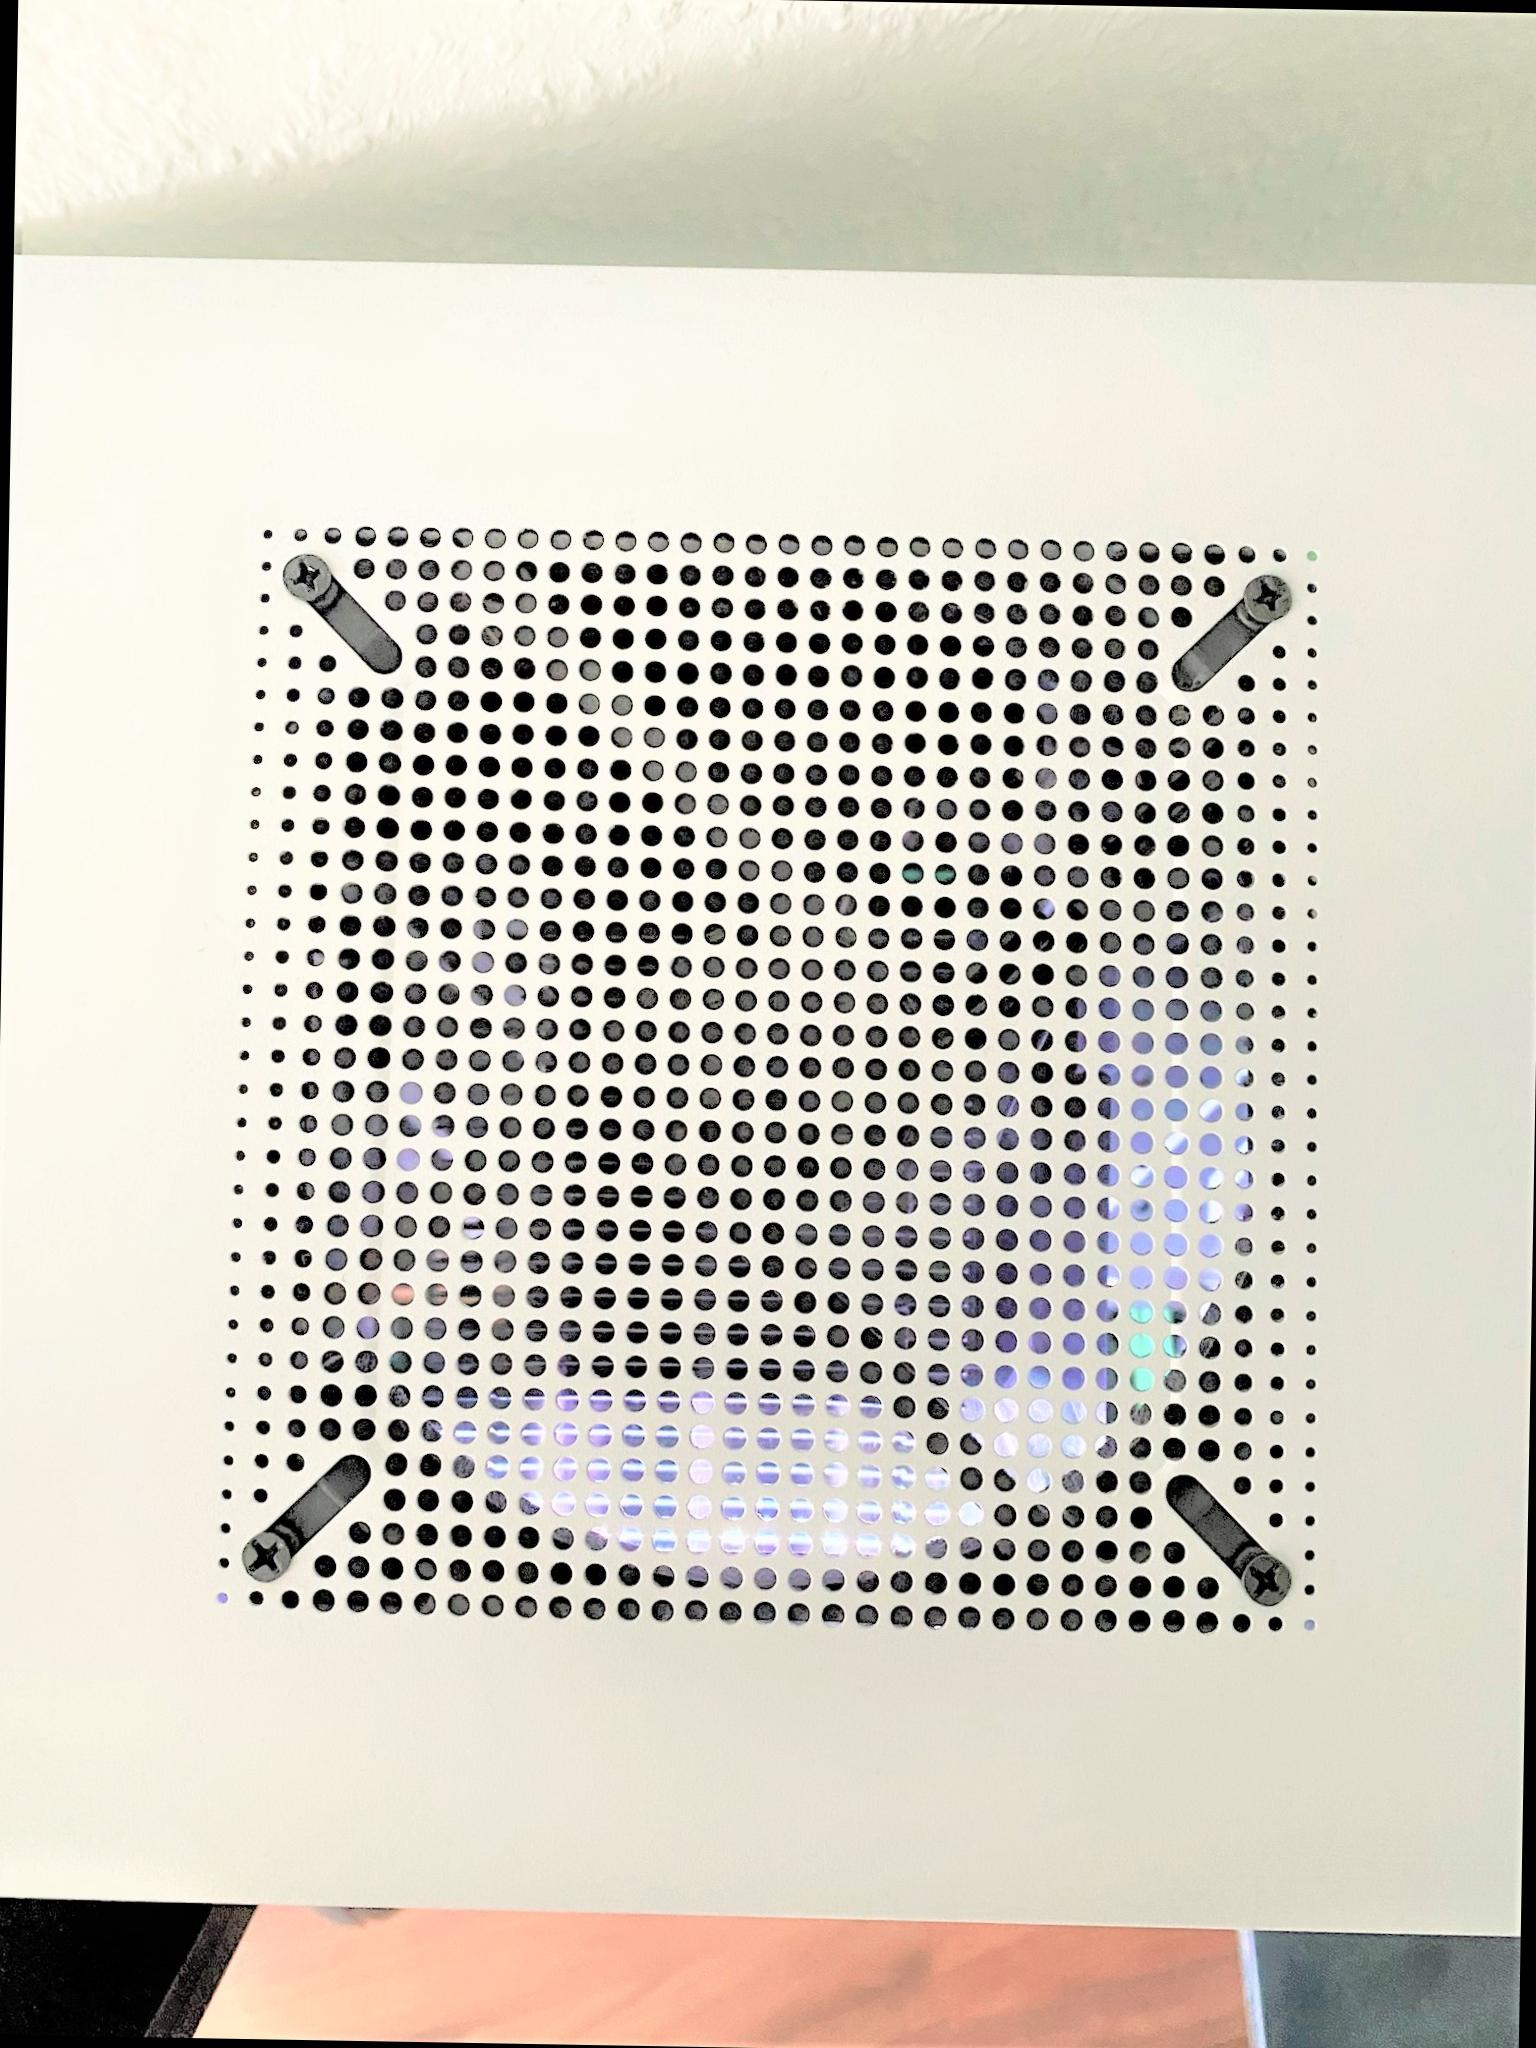PH: (1236, 1548, 1296, 1611), (278, 548, 337, 608), (1238, 568, 1296, 627), (236, 1529, 295, 1587)
